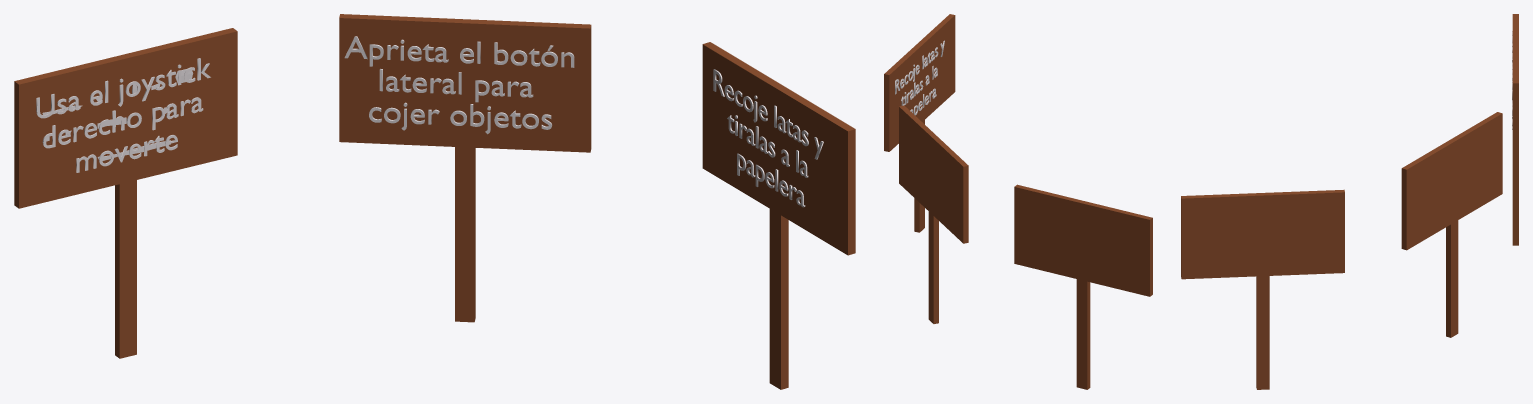
File: Poster.fbx
3 renders of one model, left to right at view 1: azimuth 30°, elevation 25°; view 2: azimuth 150°, elevation 25°; view 3: azimuth 270°, elevation 25°, orthographic. The views are drawn at different scales.
Parts seen in each view (by area): view 1: Cube.001, Cube, Cube.002, Text.001, Text.003, Text.002, Text; view 2: Cube, Cube.001, Cube.002, Text.002; view 3: Cube.002, Cube.001, Cube.
Boxes of the visible parts, left/top/right/bottom form: Cube.001: left=339, top=14, right=591, bottom=322; Cube: left=14, top=28, right=237, bottom=358; Cube.002: left=702, top=42, right=855, bottom=389; Text.001: left=344, top=36, right=574, bottom=134; Text.003: left=36, top=58, right=210, bottom=172; Text.002: left=713, top=69, right=823, bottom=207; Text: left=42, top=68, right=198, bottom=160; Cube: left=1014, top=184, right=1152, bottom=389; Cube.001: left=899, top=105, right=968, bottom=323; Cube.002: left=884, top=14, right=955, bottom=232; Text.002: left=895, top=40, right=944, bottom=115; Cube.002: left=1181, top=189, right=1344, bottom=389; Cube.001: left=1401, top=112, right=1502, bottom=337; Cube: left=1512, top=14, right=1518, bottom=245.
Size of the model in its own units: 373 by 183 by 289.
